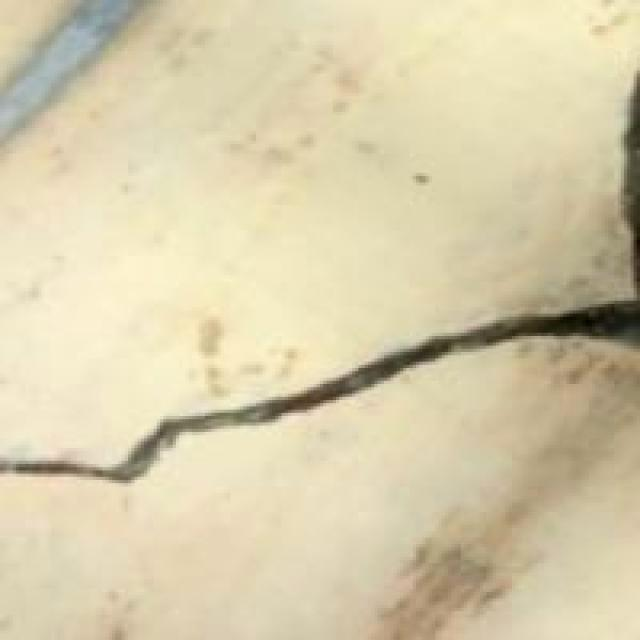SurfaceCrack: (6, 284, 640, 522)
